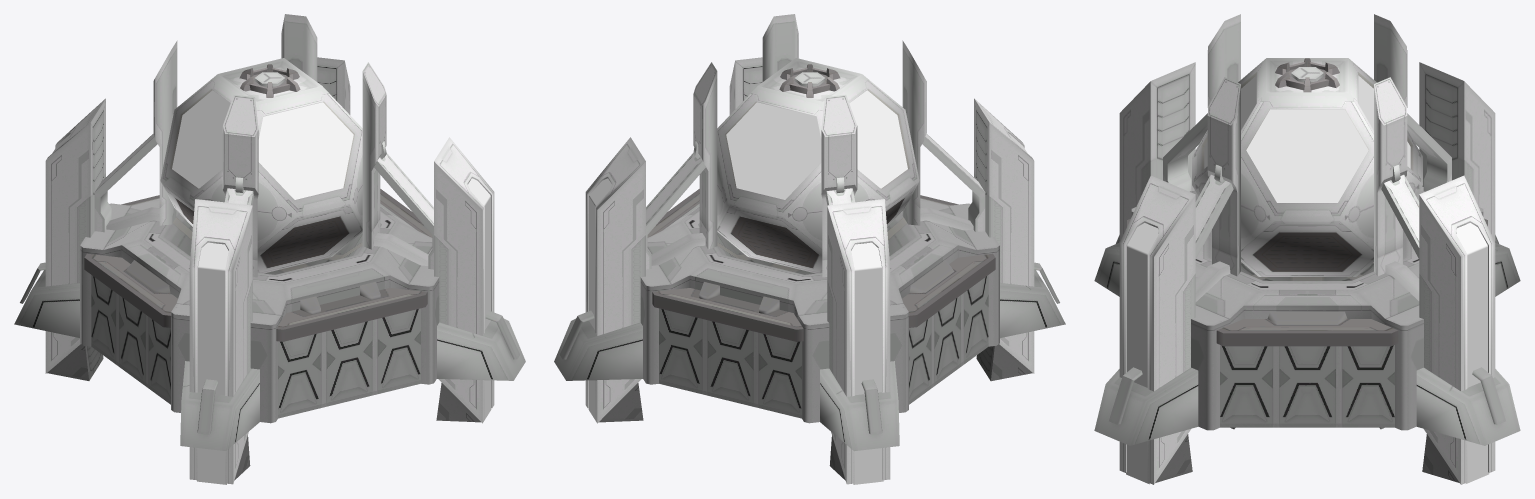
File: lab-2.glb
The picture shows the model from 3 angles, left to right: view 1: azimuth 30°, elevation 25°; view 2: azimuth 150°, elevation 25°; view 3: azimuth 270°, elevation 25°; orthographic projection. The views are drawn at different scales.
Parts seen in each view (by area): view 1: science-academy-b, science-academy-a, science-academy-c; view 2: science-academy-b, science-academy-a, science-academy-c; view 3: science-academy-b, science-academy-a, science-academy-c.
Part boxes in pixels (x1,y1,x2,y2): science-academy-b: [45, 14, 494, 484]; science-academy-a: [14, 189, 525, 450]; science-academy-c: [47, 344, 480, 480]; science-academy-b: [585, 14, 1034, 484]; science-academy-a: [554, 189, 1065, 451]; science-academy-c: [599, 344, 1032, 480]; science-academy-b: [1119, 14, 1495, 484]; science-academy-a: [1094, 186, 1520, 445]; science-academy-c: [1155, 427, 1459, 482].
Bounding box in the file's own units: 6.78 × 6.29 × 6.78.
3 materials, 3 textured.
